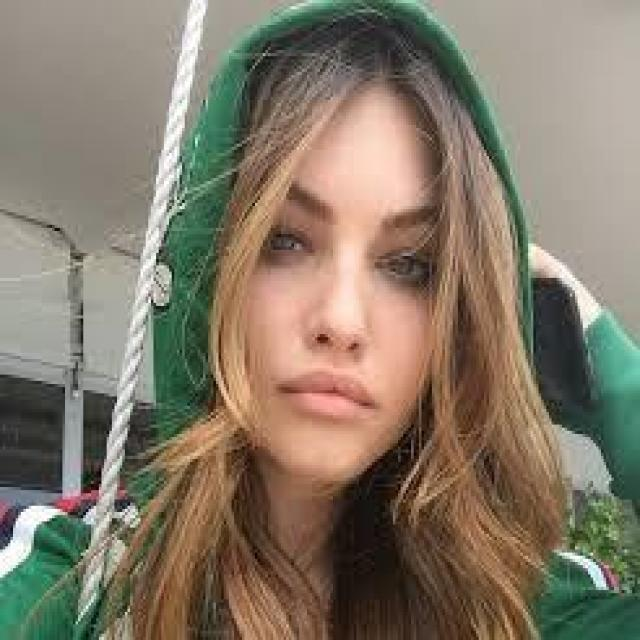person: (91, 6, 609, 637)
